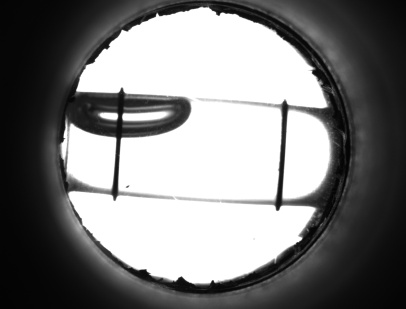line: (274, 117, 291, 191), (107, 143, 123, 183)
